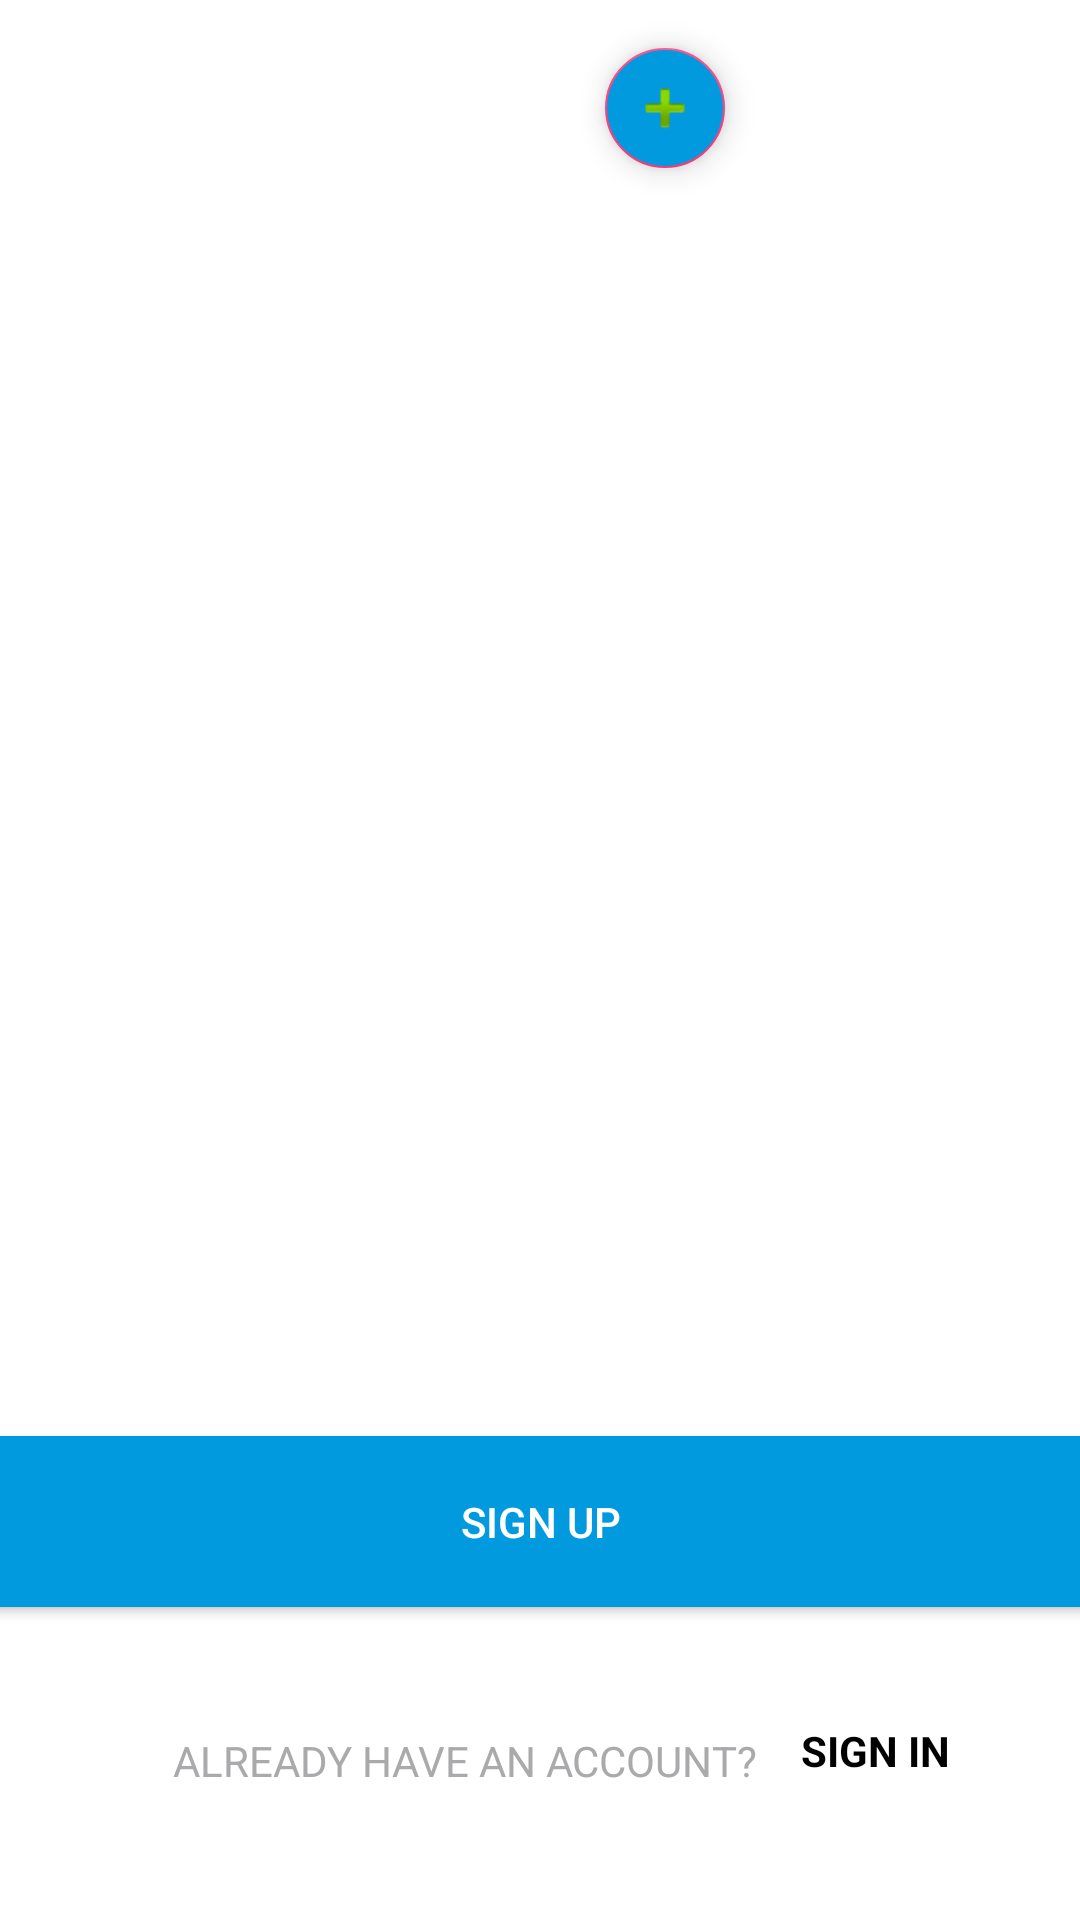

Named icons in this screenshot (1080x1920) and their bounding boxes, box(x1, y1, x2, y2):
add: box(605, 48, 725, 168)
